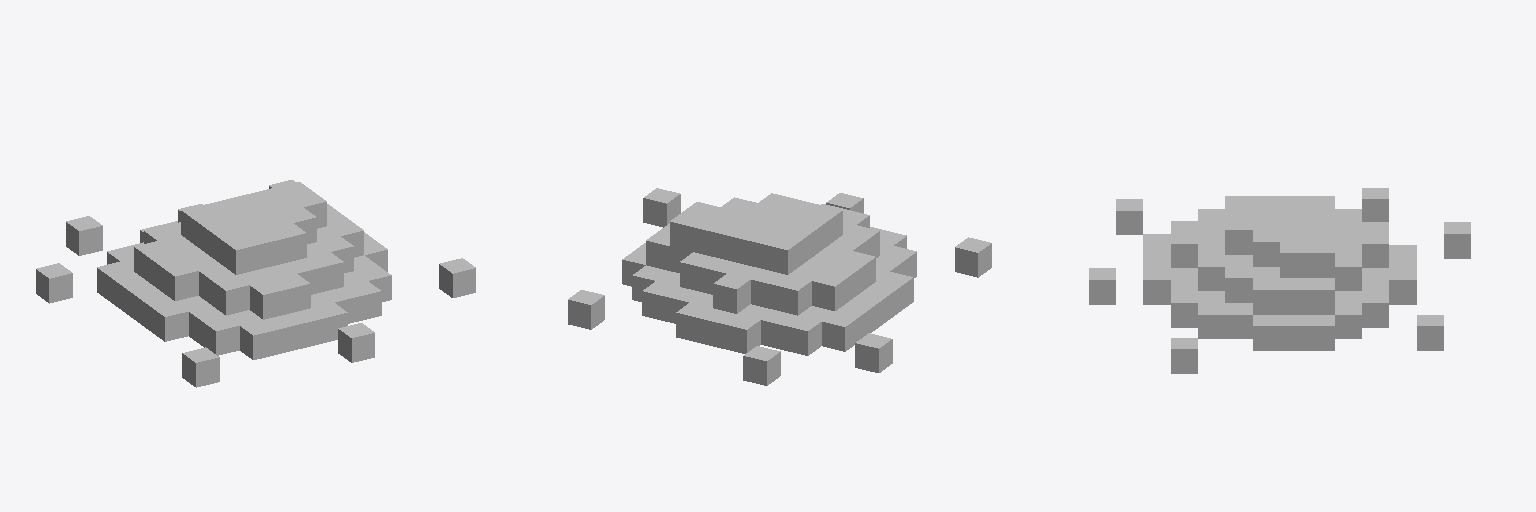
Rendered from stonepile.obj.
The picture shows the model from 3 angles: view 1: azimuth 30°, elevation 25°; view 2: azimuth 150°, elevation 25°; view 3: azimuth 270°, elevation 25°; orthographic projection.
Visible parts, largest first — view 1: model; view 2: model; view 3: model.
Part boxes in pixels (bbox=[...]): model: bbox=[36, 180, 475, 387]; model: bbox=[568, 188, 991, 385]; model: bbox=[1089, 188, 1470, 373].
Size of the model in its own units: 0.875 by 0.1875 by 0.875.